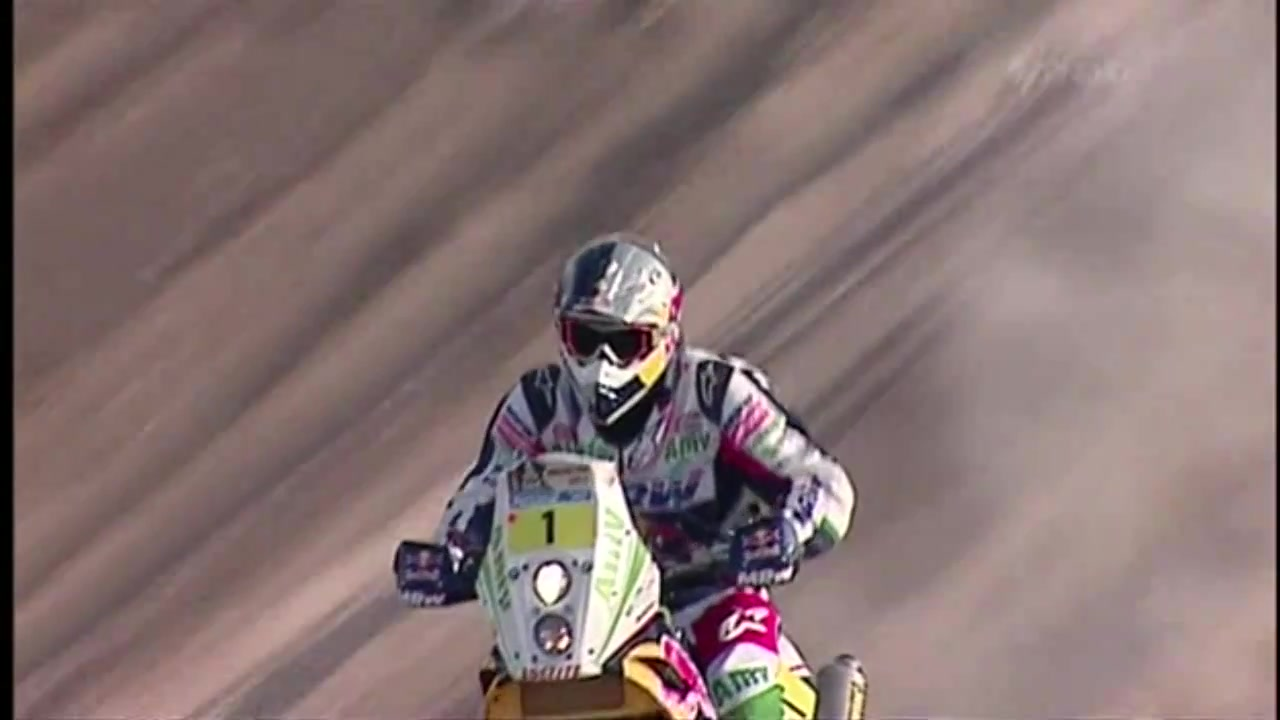motorbike: (396, 434, 872, 720)
